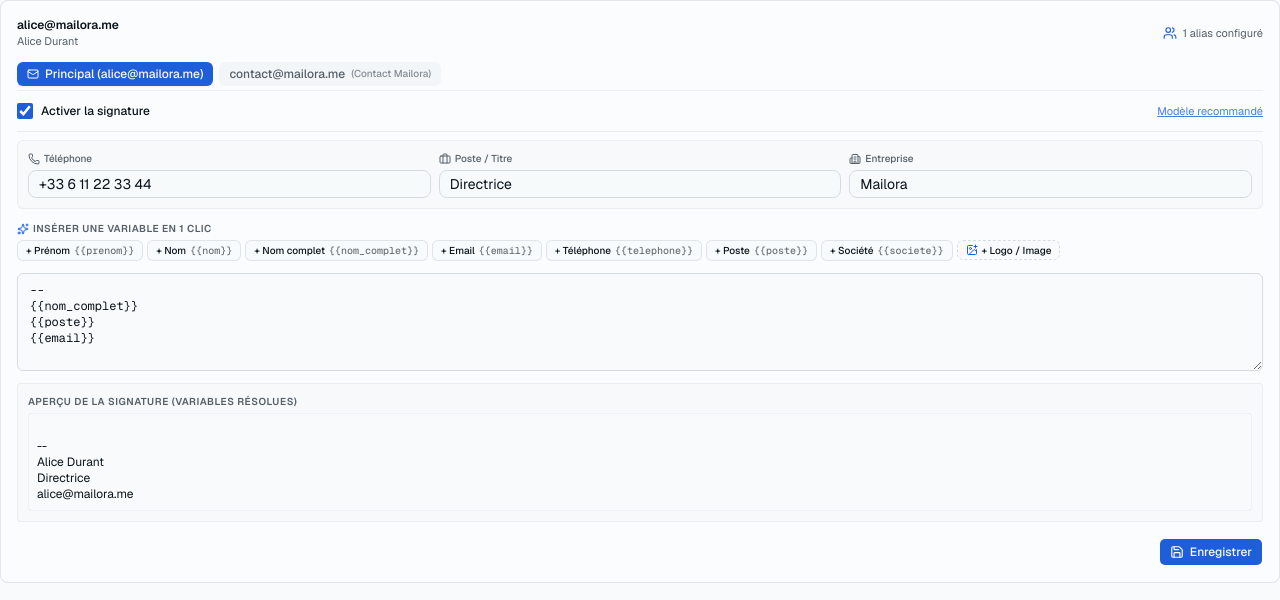
Test case: AccountSignatureManager › permet de basculer vers l'onglet de l'alias
Click the button "contact@mailora.me (Contact Mailora)" at point(330, 74), box [220,62,441,86]
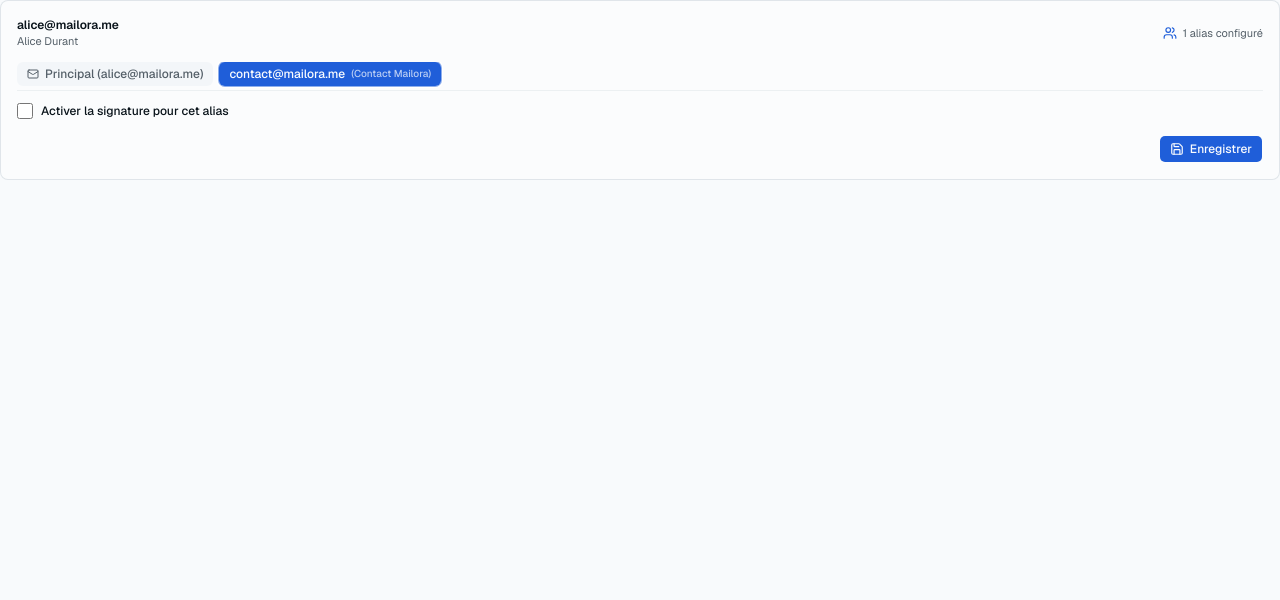
Result: the text "Activer la signature pour cet alias" is shown at [41,102,229,118]
